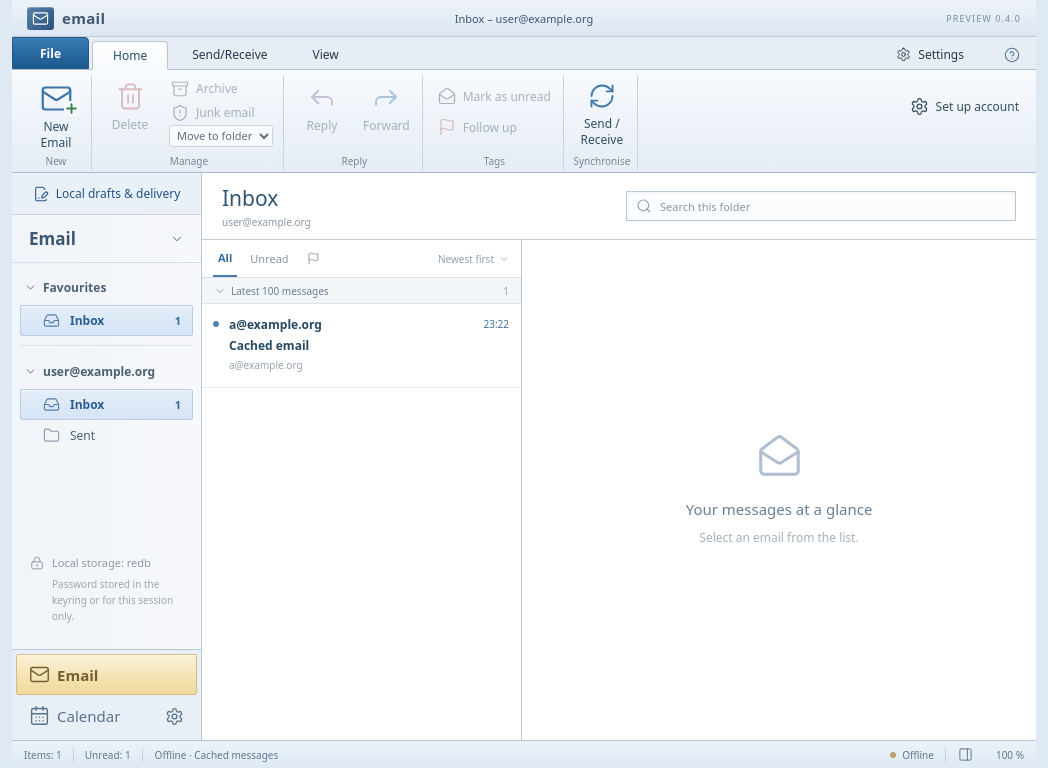
Test: offline drafts and delivery › clears cached selections and rejects late bodies when startup reconnect replaces UIDs
Expected: the text "Cached email" is shown, left=229, top=337, right=309, bottom=354
Step 1. Click the button "a@example.org 23:22 Cached email a@example.org" → (275, 324), box left=202, top=304, right=521, bottom=388
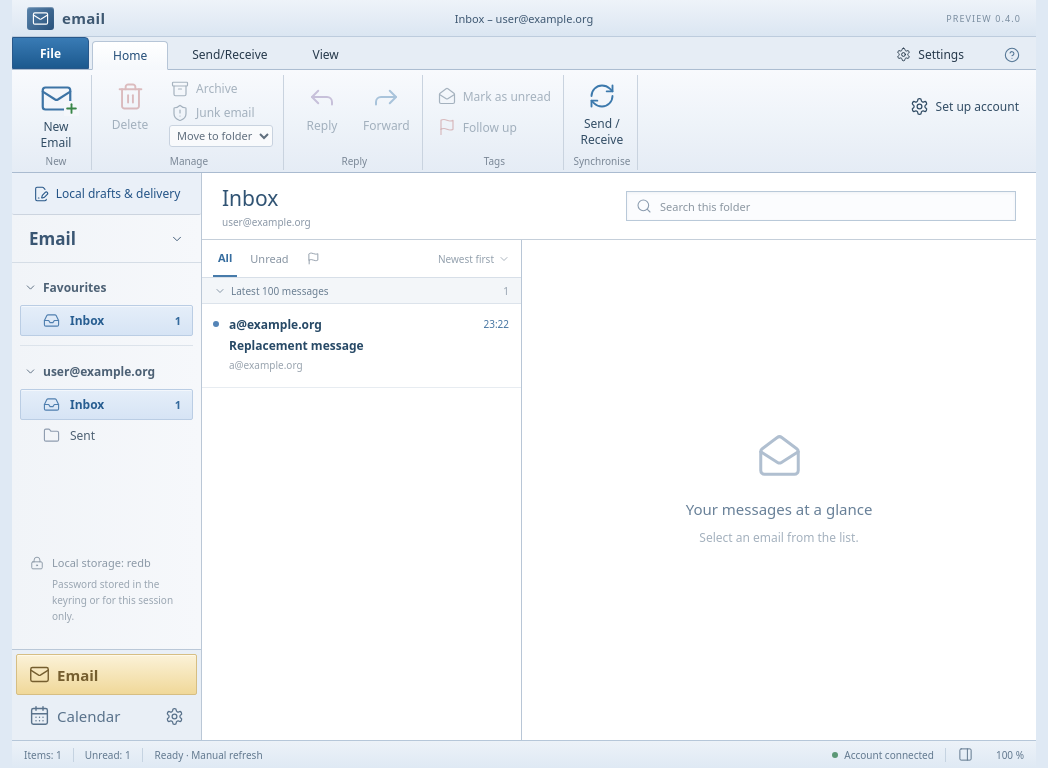
Expected: the dropdown named "Move to folder" is disabled, left=169, top=124, right=273, bottom=146
Expected: the text "Replacement message" is shown, left=229, top=337, right=364, bottom=354
